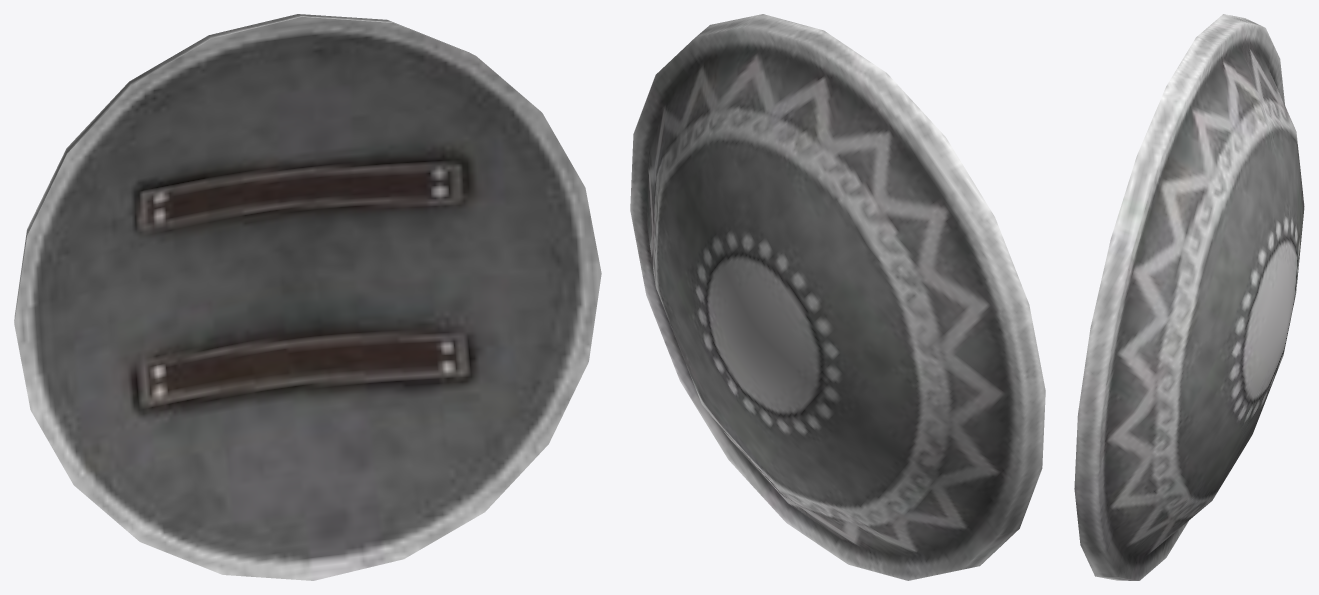
The model's file is shield-ironshields.glb.
3 views of the same model, side by side, from view 1: azimuth 30°, elevation 25°; view 2: azimuth 150°, elevation 25°; view 3: azimuth 270°, elevation 25° (orthographic). The views are drawn at different scales.
Size of the model in its own units: 0.6603 by 0.6899 by 0.2728.
Materials: 1 (1 with a texture image).
